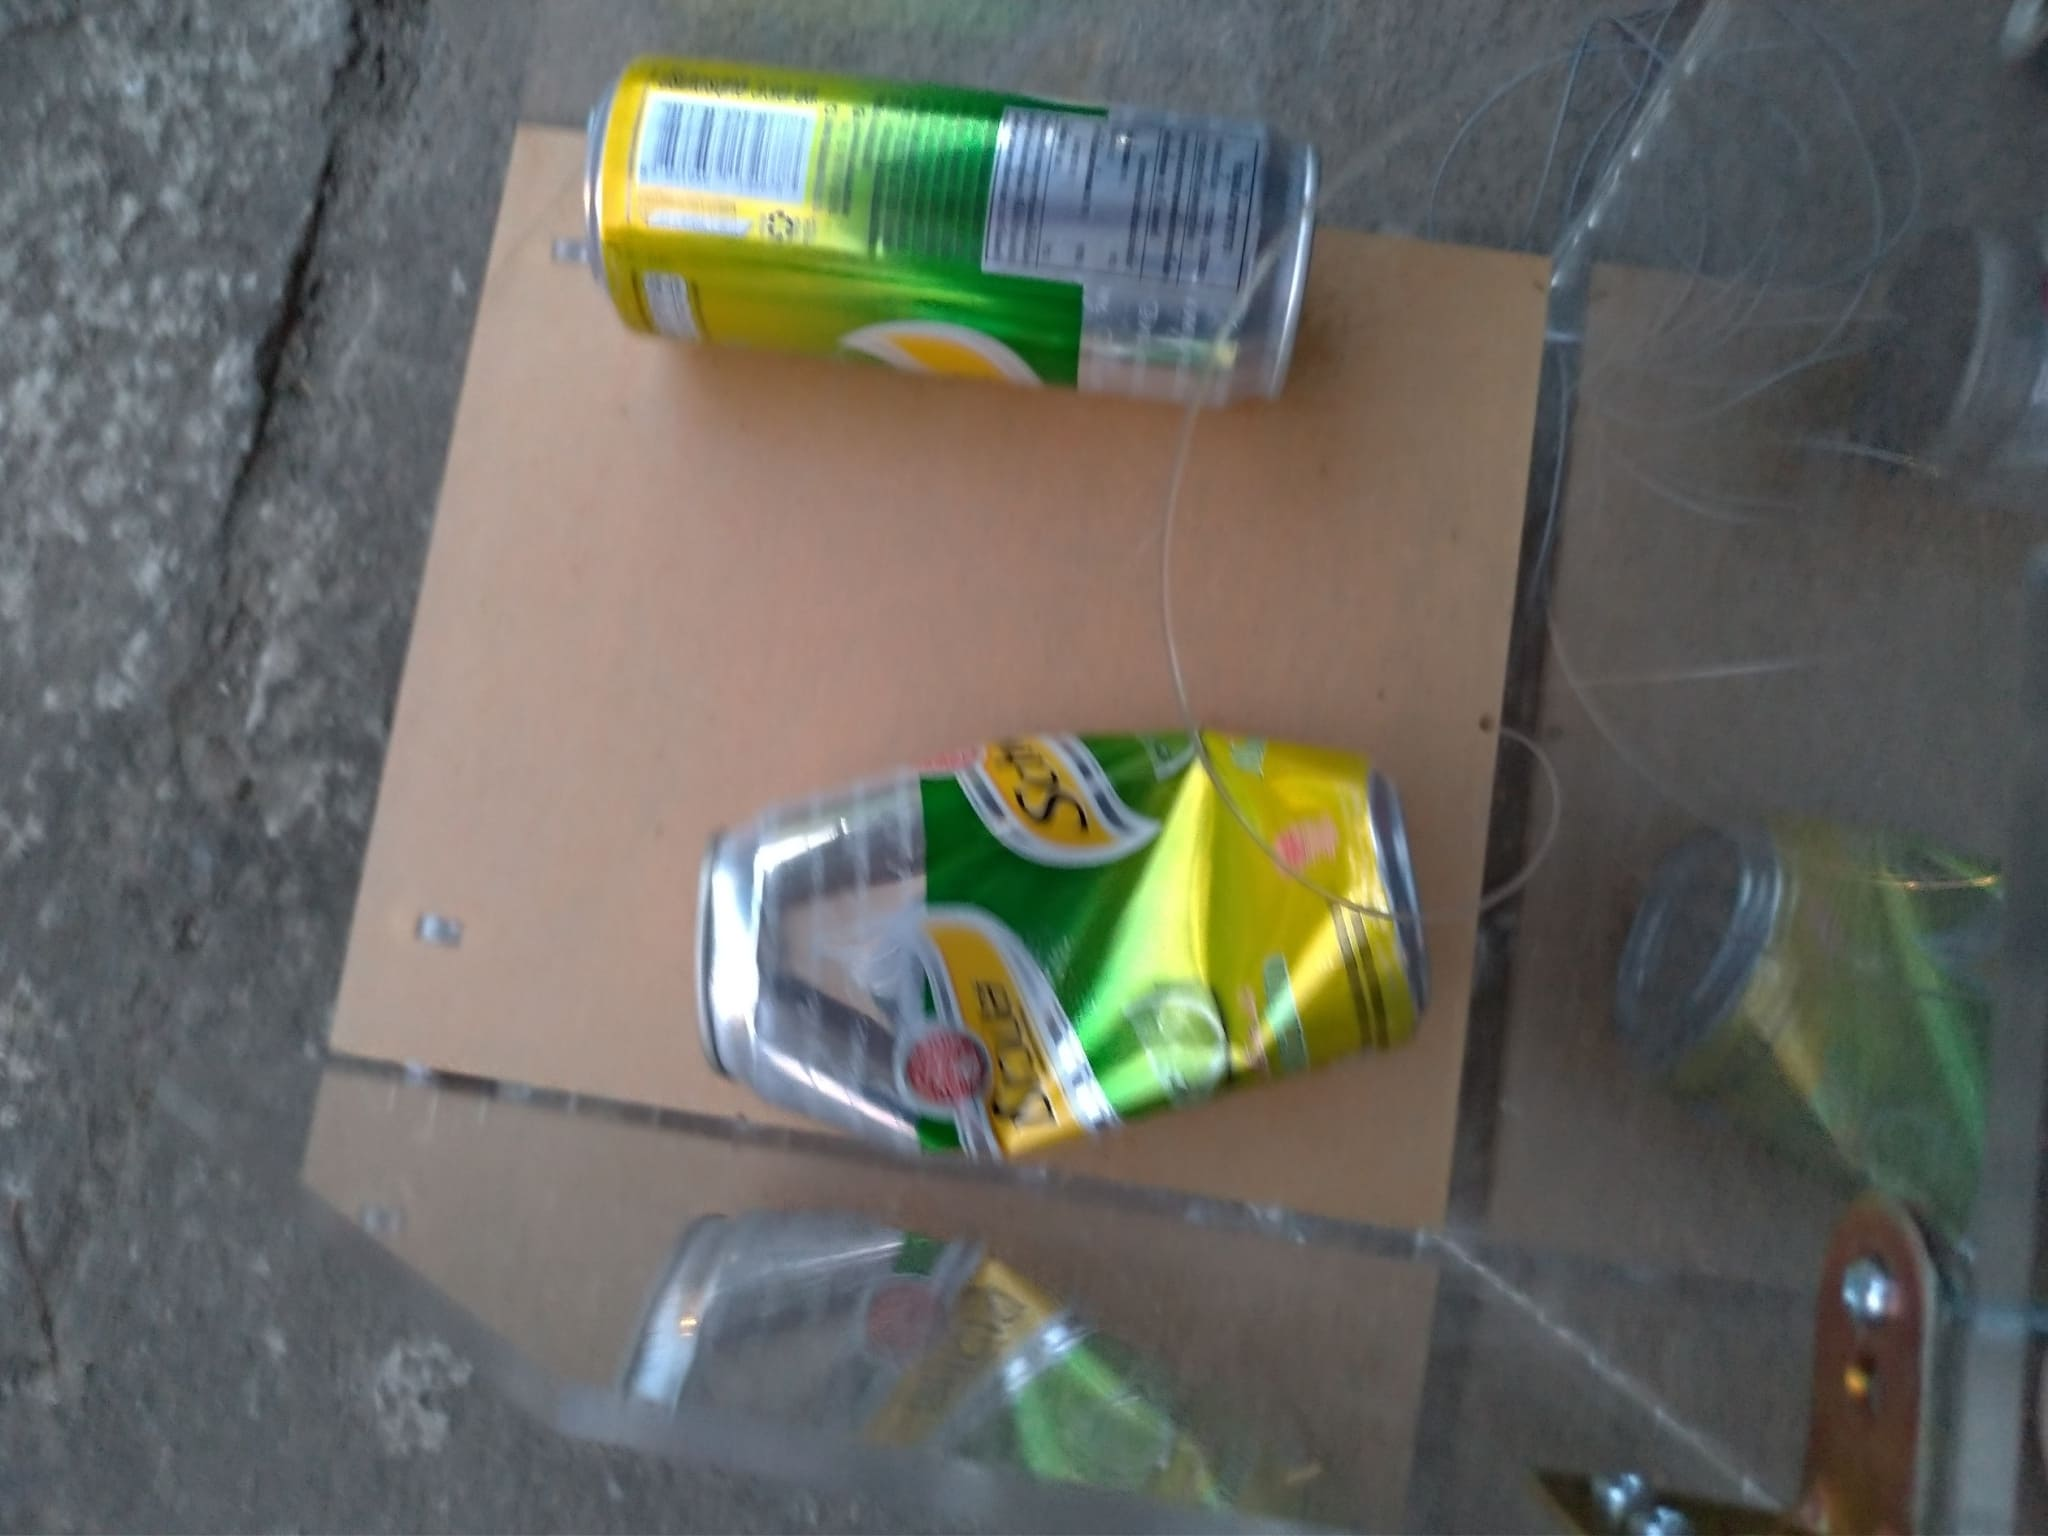AlCan: (685, 724, 1432, 1167), (582, 53, 1321, 411)
